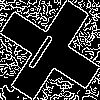I: (25, 25, 61, 71)
